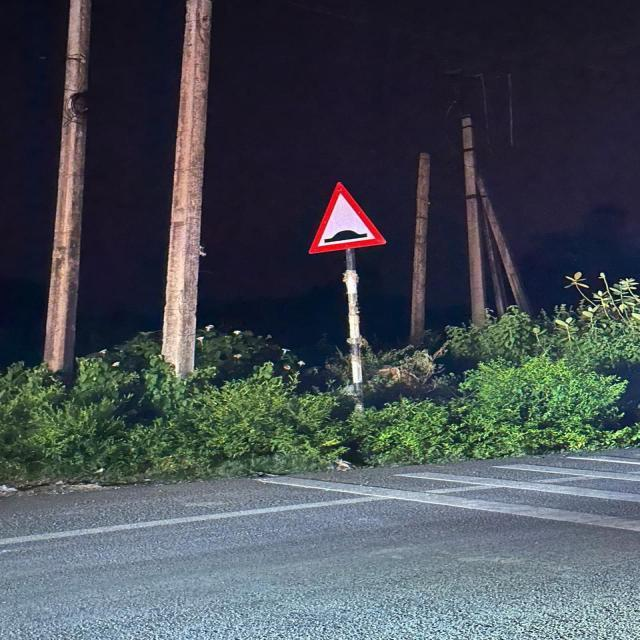hump or rough road: (307, 180, 388, 255)
